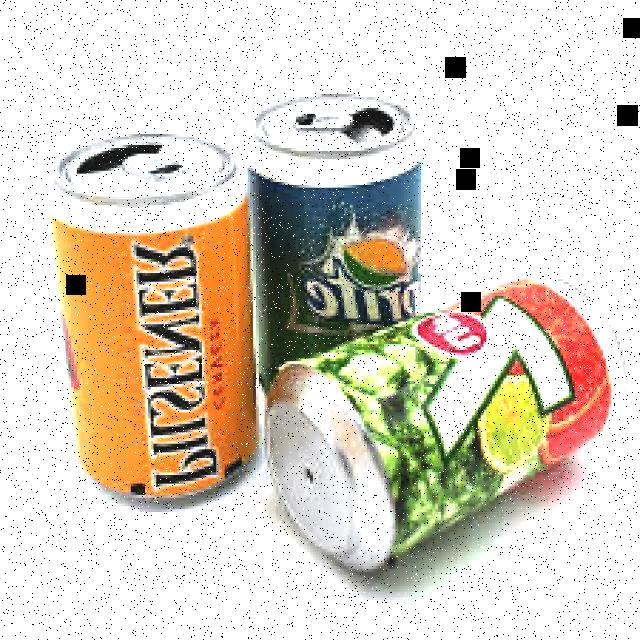can: (266, 277, 622, 571), (46, 128, 258, 500), (246, 89, 426, 395)
